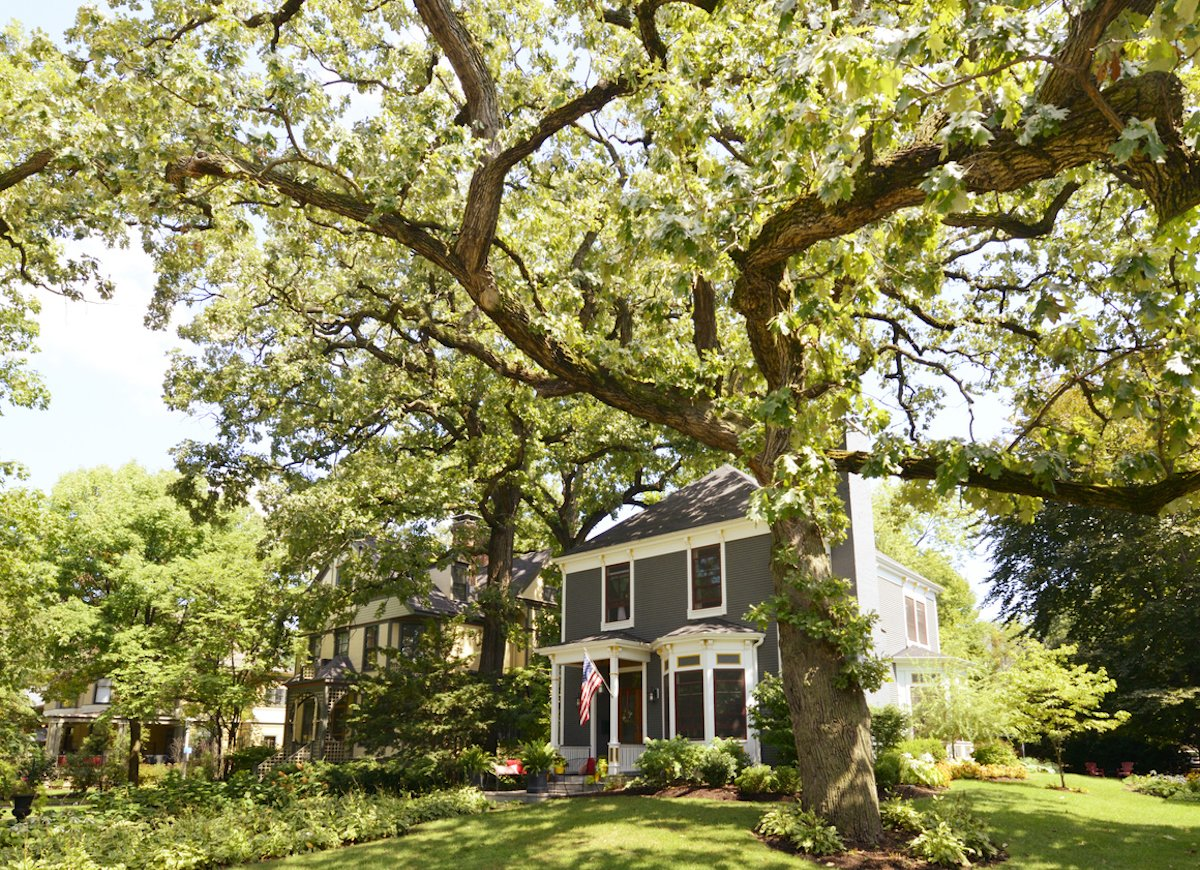tree: (3, 1, 1176, 833), (169, 321, 726, 765)
